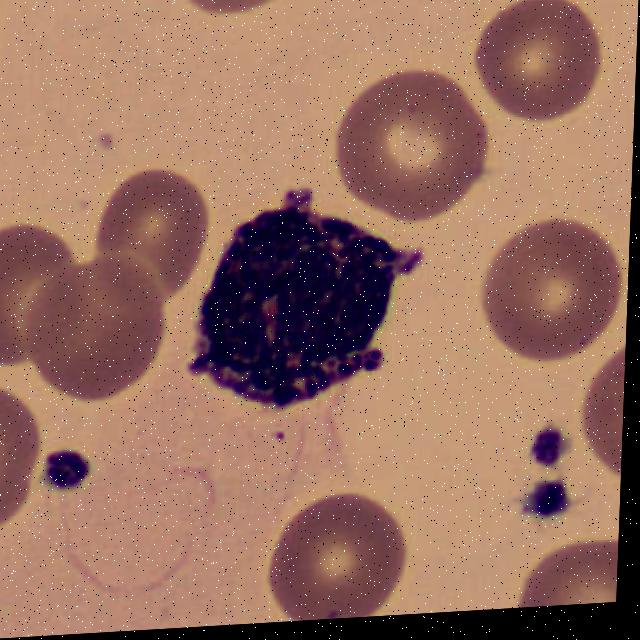basophil: (185, 190, 420, 419)
platelets: (33, 437, 98, 499), (529, 420, 578, 470)
rbc: (324, 45, 497, 233), (14, 246, 171, 412), (476, 207, 627, 369), (270, 476, 406, 622), (86, 162, 224, 299), (474, 0, 613, 130), (0, 207, 86, 357), (521, 515, 620, 608), (574, 340, 626, 479), (0, 380, 41, 529), (163, 0, 303, 36), (0, 0, 11, 55)
